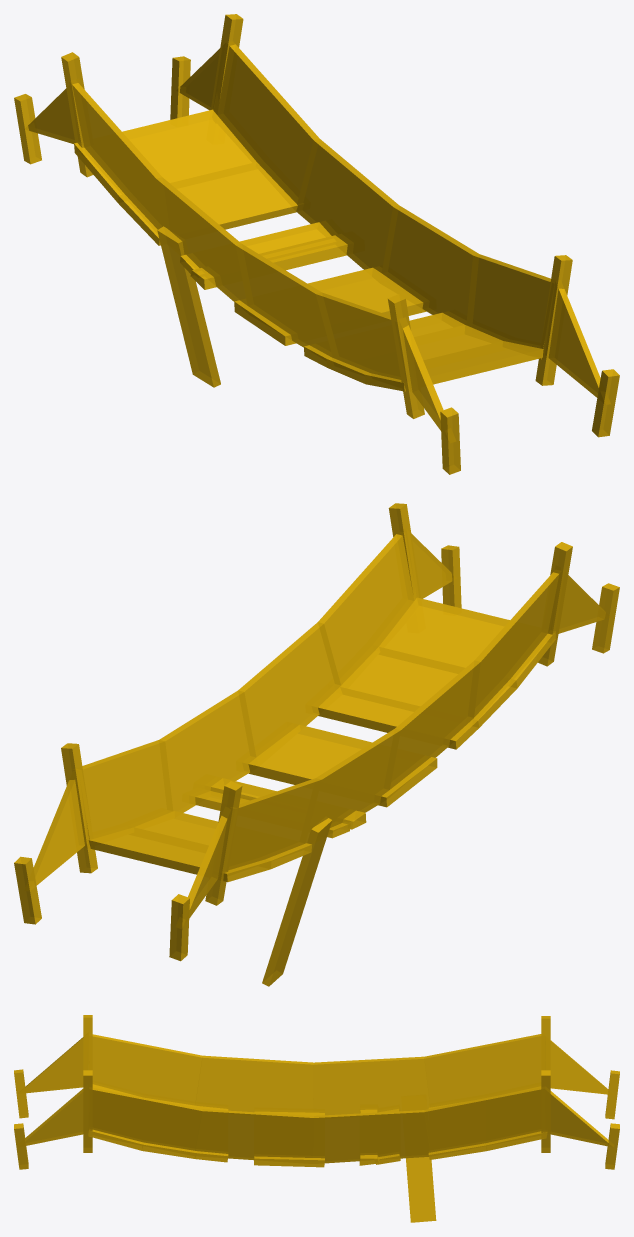
The model's file is SM_Bld_Ropebridge_Damaged_01_Collision.fbx.
3 renders of one model, top to bottom at view 1: azimuth 30°, elevation 25°; view 2: azimuth 150°, elevation 25°; view 3: azimuth 270°, elevation 25°, orthographic. The views are drawn at different scales.
Visible parts, largest first — view 1: SM_Bld_Ropebridge_Damaged_01_Collision; view 2: SM_Bld_Ropebridge_Damaged_01_Collision; view 3: SM_Bld_Ropebridge_Damaged_01_Collision.
Boxes of the visible parts, x1,y1,x2,y2 form: SM_Bld_Ropebridge_Damaged_01_Collision: (14,14,619,474); SM_Bld_Ropebridge_Damaged_01_Collision: (14,503,619,986); SM_Bld_Ropebridge_Damaged_01_Collision: (14,1015,619,1222).
Size of the model in its own units: 263 by 383 by 1111.
